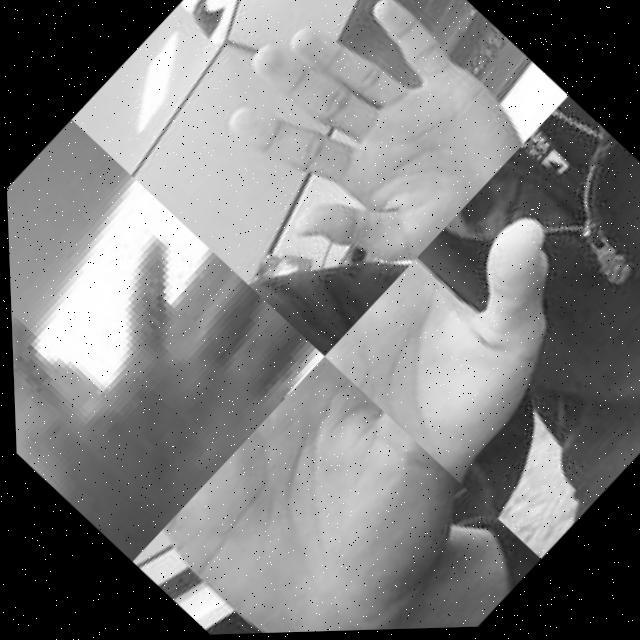no-gloves: (5, 162, 326, 564), (173, 0, 541, 317), (317, 178, 640, 506), (154, 353, 486, 637)
